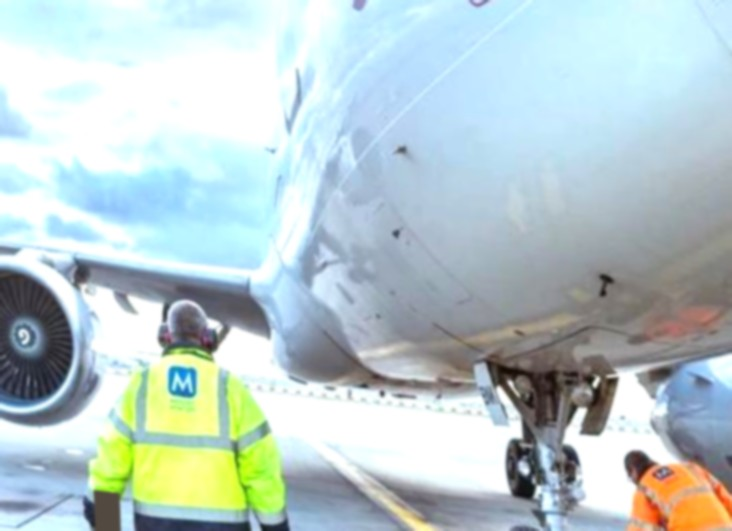wheel: (502, 436, 537, 499), (559, 442, 582, 479)
